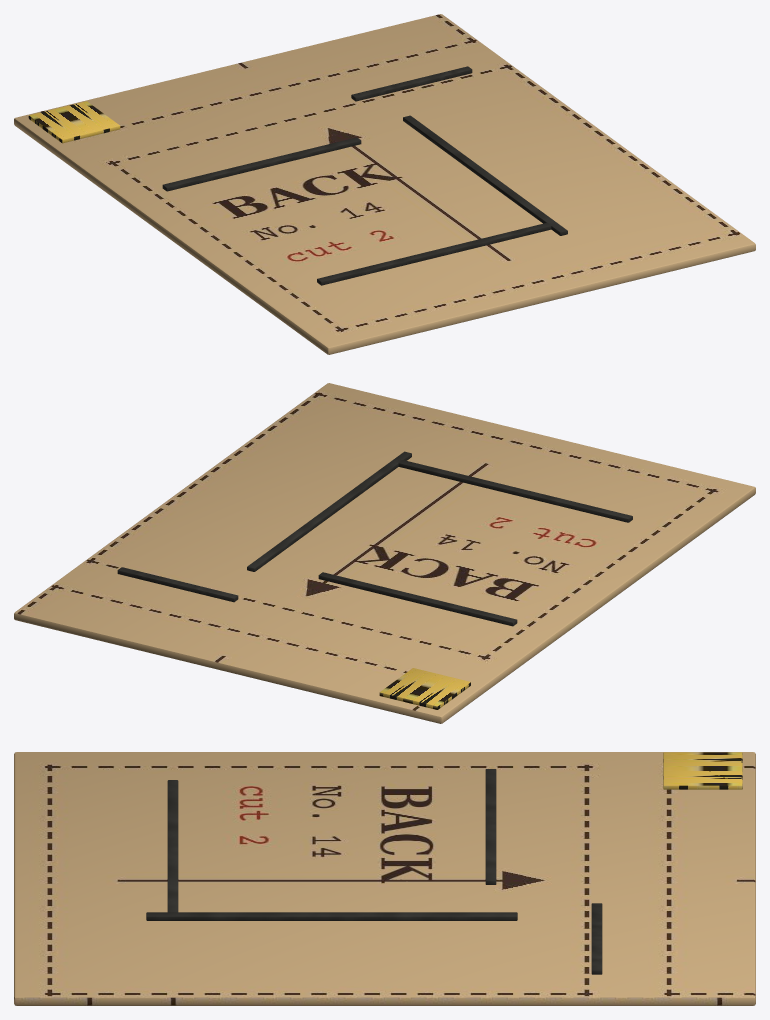
File: pattern_sheet.glb
3 renders of one model, top to bottom at view 1: azimuth 30°, elevation 25°; view 2: azimuth 150°, elevation 25°; view 3: azimuth 270°, elevation 25°, orthographic. The views are drawn at different scales.
Parts seen in each view (by area): view 1: pattern_sheet; view 2: pattern_sheet; view 3: pattern_sheet.
Boxes of the visible parts, x1,y1,x2,y2 form: pattern_sheet: (14,14,755,354); pattern_sheet: (14,383,755,723); pattern_sheet: (14,752,755,1005).
Bounding box in the file's own units: 0.22 × 0.006 × 0.28.
Materials: 3 (3 with a texture image).
